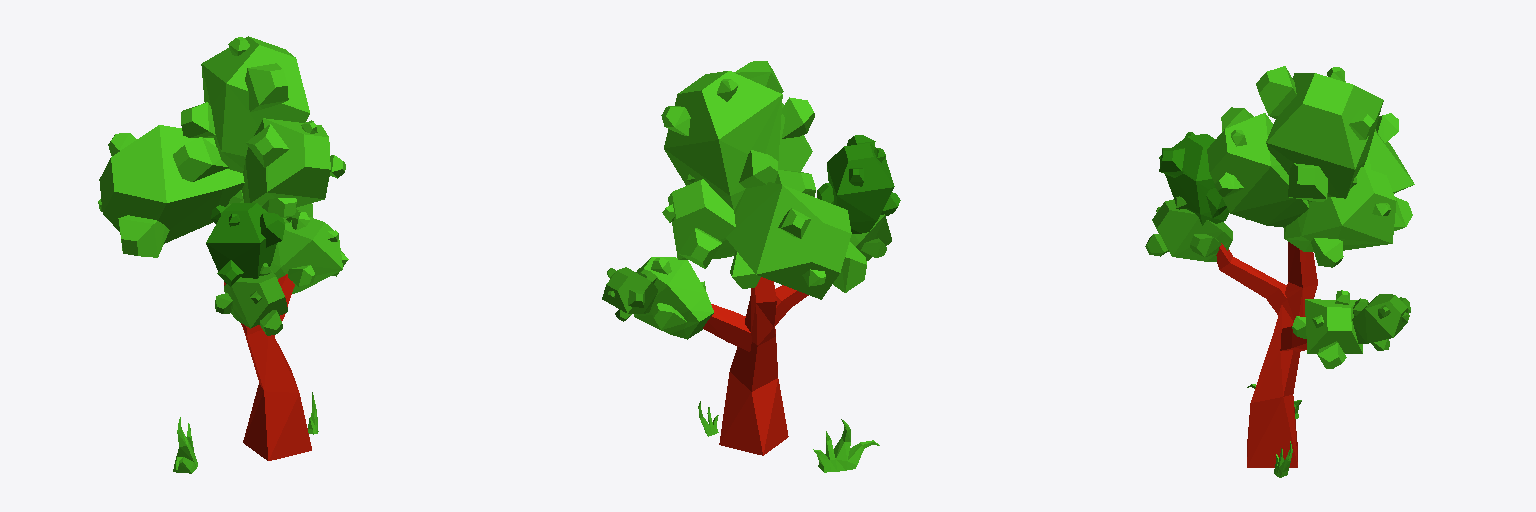
File: tree_blender_file.obj
3 views of the same model, side by side, from view 1: azimuth 30°, elevation 25°; view 2: azimuth 150°, elevation 25°; view 3: azimuth 270°, elevation 25° (orthographic).
Visible parts, largest first — view 1: BranchesCBranchesuBranchesbBrancheseBranches.Branches0Branc.005_, BranchesCBranchesuBranchesbBrancheseBranches.Branches0Branc.004_, BranchesCBranchesuBranchesbBrancheseBranches.Branches0Branc.003_, Trunk_Plane.001, BranchesCBranchesuBranchesbBrancheseBranches.Branches0Branches0_, BranchesCBranchesuBranchesbBrancheseBranches.Branches0BrancBran_, BranchesCBranchesuBranchesbBrancheseBranchesBranch_Cube.002, Plane_Plane.004; view 2: BranchesCBranchesuBranchesbBrancheseBranches.Branches0Branc.004_, BranchesCBranchesuBranchesbBrancheseBranches.Branches0Branc.005_, Trunk_Plane.001, BranchesCBranchesuBranchesbBrancheseBranches.Branches0Branches0_, BranchesCBranchesuBranchesbBrancheseBranches.Branches0Branc.002_, BranchesCBranchesuBranchesbBrancheseBranches.Branches0BrancBran_, BranchesCBranchesuBranchesbBrancheseBranches.Branches0Branc.001_, BranchesCBranchesuBranchesbBrancheseBranches.Branches0Branc.003_, Plane_Plane.004, BranchesCBranchesuBranchesbBrancheseBranchesBranch_Cube.002; view 3: BranchesCBranchesuBranchesbBrancheseBranches.Branches0Branc.004_, Trunk_Plane.001, BranchesCBranchesuBranchesbBrancheseBranches.Branches0Branc.003_, BranchesCBranchesuBranchesbBrancheseBranches.Branches0Branc.002_, BranchesCBranchesuBranchesbBrancheseBranches.Branches0Branches0_, BranchesCBranchesuBranchesbBrancheseBranchesBranch_Cube.002, BranchesCBranchesuBranchesbBrancheseBranches.Branches0BrancBran_, BranchesCBranchesuBranchesbBrancheseBranches.Branches0Branc.001_, BranchesCBranchesuBranchesbBrancheseBranches.Branches0Branc.005_.
Part boxes in pixels (bbox=[...]): BranchesCBranchesuBranchesbBrancheseBranches.Branches0Branc.005_: bbox=[98, 125, 244, 257]; BranchesCBranchesuBranchesbBrancheseBranches.Branches0Branc.004_: bbox=[181, 36, 309, 172]; BranchesCBranchesuBranchesbBrancheseBranches.Branches0Branc.003_: bbox=[242, 118, 345, 217]; Trunk_Plane.001: bbox=[224, 274, 311, 460]; BranchesCBranchesuBranchesbBrancheseBranches.Branches0Branches0_: bbox=[206, 203, 284, 286]; BranchesCBranchesuBranchesbBrancheseBranches.Branches0BrancBran_: bbox=[270, 211, 348, 293]; BranchesCBranchesuBranchesbBrancheseBranchesBranch_Cube.002: bbox=[215, 263, 287, 335]; Plane_Plane.004: bbox=[173, 417, 197, 473]; BranchesCBranchesuBranchesbBrancheseBranches.Branches0Branc.004_: bbox=[661, 61, 783, 209]; BranchesCBranchesuBranchesbBrancheseBranches.Branches0Branc.005_: bbox=[726, 170, 866, 299]; Trunk_Plane.001: bbox=[703, 277, 808, 455]; BranchesCBranchesuBranchesbBrancheseBranches.Branches0Branches0_: bbox=[817, 135, 900, 233]; BranchesCBranchesuBranchesbBrancheseBranches.Branches0Branc.002_: bbox=[662, 174, 735, 268]; BranchesCBranchesuBranchesbBrancheseBranches.Branches0BrancBran_: bbox=[634, 257, 713, 339]; BranchesCBranchesuBranchesbBrancheseBranches.Branches0Branc.001_: bbox=[602, 267, 657, 321]; BranchesCBranchesuBranchesbBrancheseBranches.Branches0Branc.003_: bbox=[778, 97, 814, 171]; Plane_Plane.004: bbox=[813, 419, 879, 472]; BranchesCBranchesuBranchesbBrancheseBranchesBranch_Cube.002: bbox=[850, 214, 891, 260]; BranchesCBranchesuBranchesbBrancheseBranches.Branches0Branc.004_: bbox=[1256, 66, 1383, 201]; Trunk_Plane.001: bbox=[1216, 242, 1317, 467]; BranchesCBranchesuBranchesbBrancheseBranches.Branches0Branc.003_: bbox=[1207, 107, 1308, 226]; BranchesCBranchesuBranchesbBrancheseBranches.Branches0Branc.002_: bbox=[1283, 167, 1412, 267]; BranchesCBranchesuBranchesbBrancheseBranches.Branches0Branches0_: bbox=[1159, 132, 1229, 225]; BranchesCBranchesuBranchesbBrancheseBranchesBranch_Cube.002: bbox=[1145, 196, 1232, 261]; BranchesCBranchesuBranchesbBrancheseBranches.Branches0BrancBran_: bbox=[1292, 290, 1362, 368]; BranchesCBranchesuBranchesbBrancheseBranches.Branches0Branc.001_: bbox=[1352, 294, 1410, 350]; BranchesCBranchesuBranchesbBrancheseBranches.Branches0Branc.005_: bbox=[1364, 113, 1414, 193].
Size of the model in its own units: 10.59 by 16.8 by 10.6.